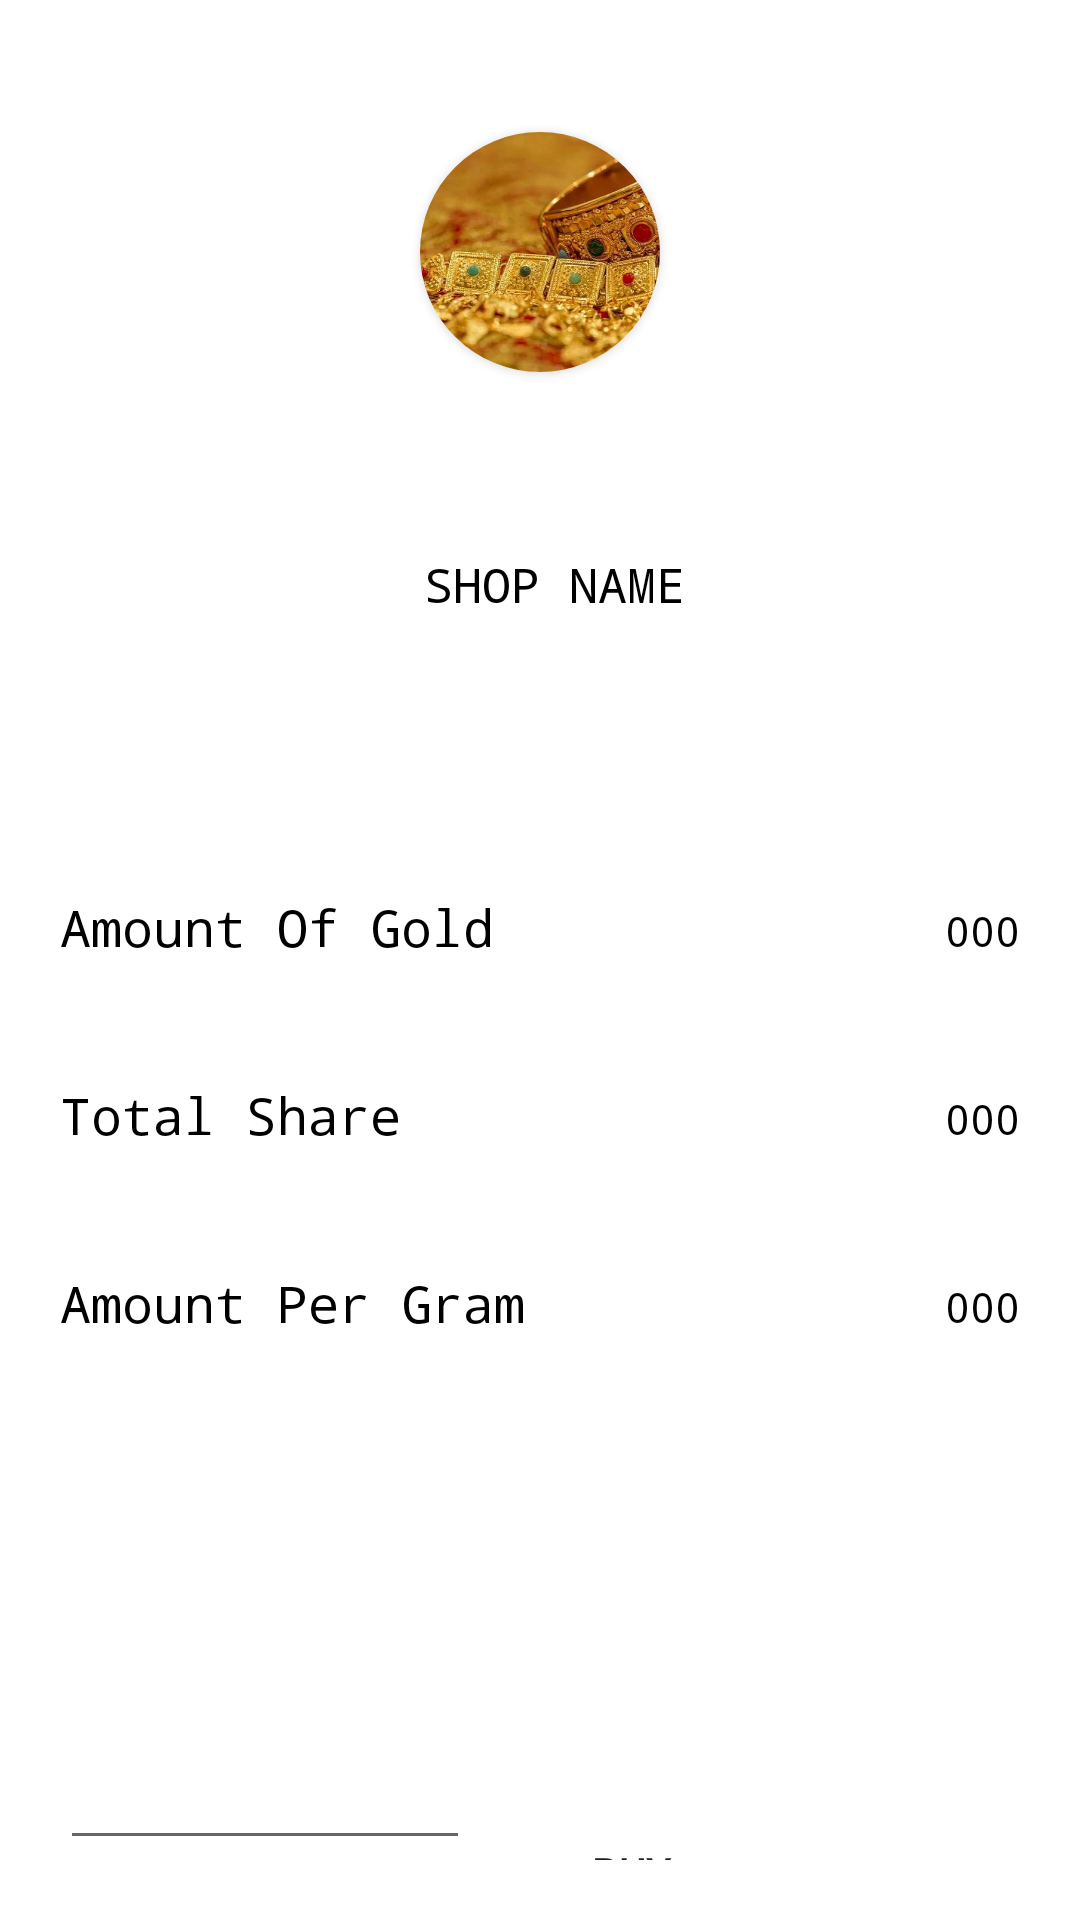

Named icons in this screenshot (1080px×1920px) and their centers, (x,y):
gold: (540,252)
